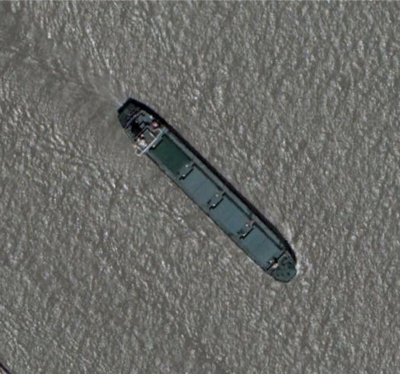boat: (115, 95, 300, 285)
